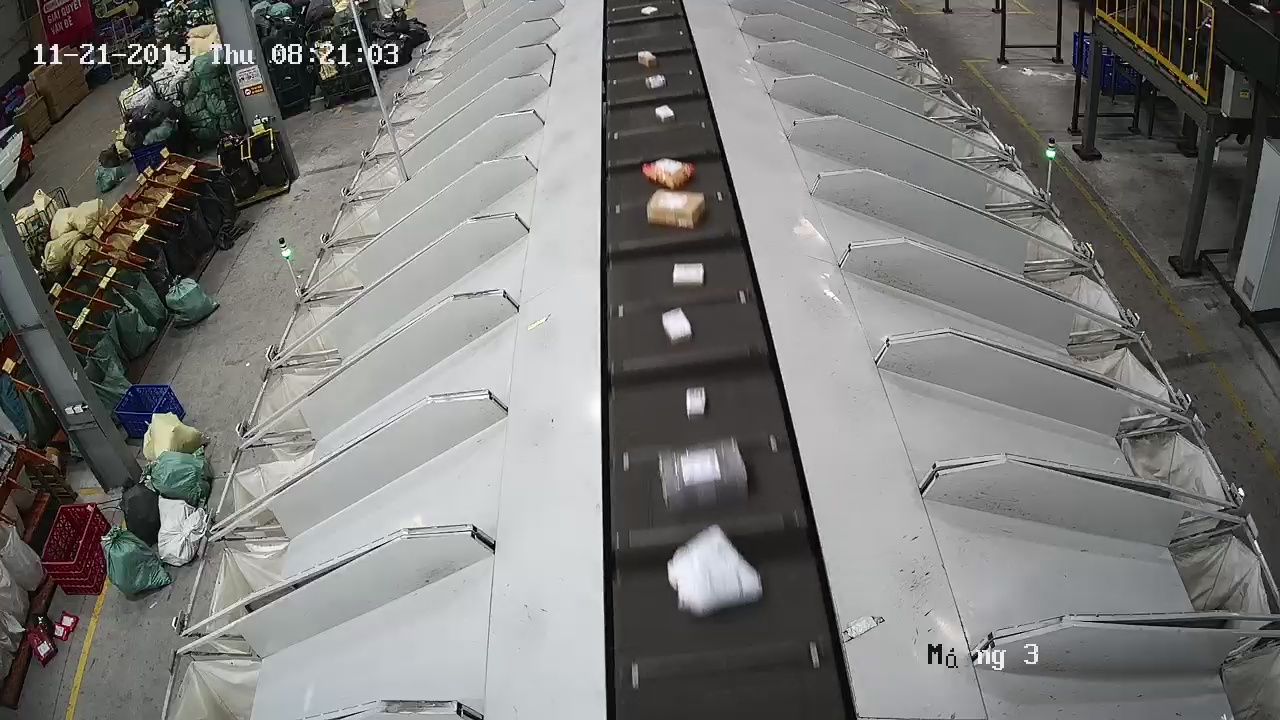parcel: (666, 523, 765, 621), (657, 436, 752, 514), (684, 385, 711, 424)
